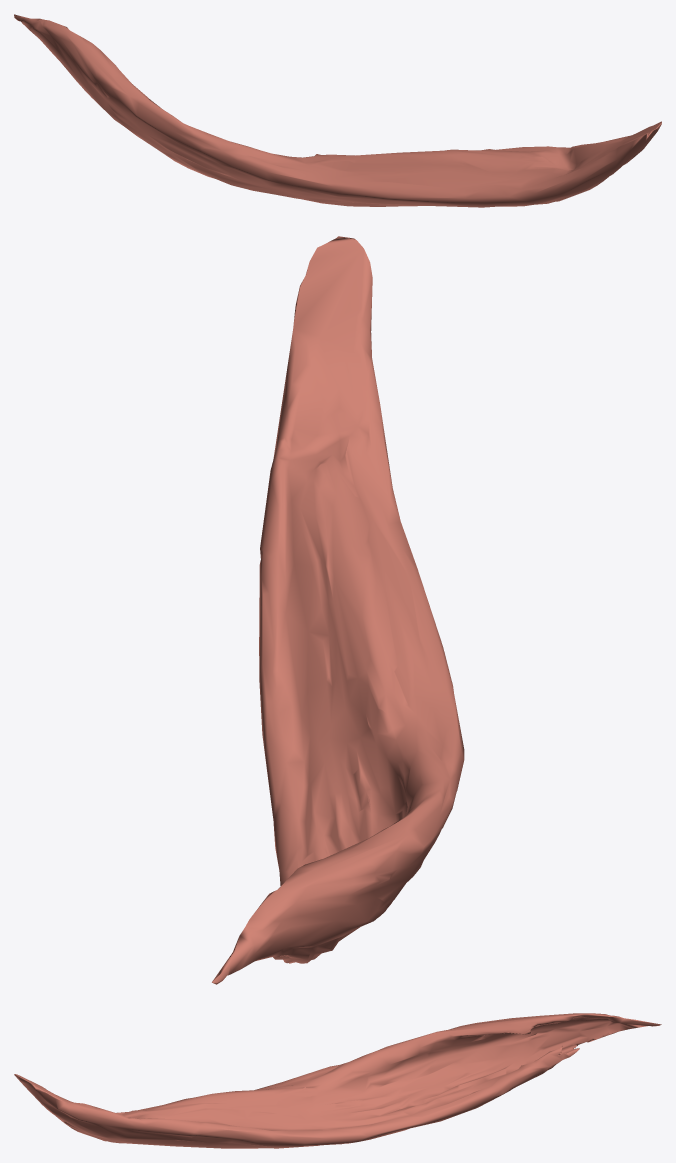
3 views of the same model, one above another, from view 1: azimuth 30°, elevation 25°; view 2: azimuth 150°, elevation 25°; view 3: azimuth 270°, elevation 25° (orthographic). The views are drawn at different scales.
Visible parts, largest first — view 1: 右侧旋前圆肌肱头; view 2: 右侧旋前圆肌肱头; view 3: 右侧旋前圆肌肱头.
Part boxes in pixels (x1,y1,x2,y2): 右侧旋前圆肌肱头: [14, 14, 661, 207]; 右侧旋前圆肌肱头: [212, 236, 464, 984]; 右侧旋前圆肌肱头: [14, 1013, 661, 1148].
Size of the model in its own units: 0.1063 by 0.0532 by 0.2219.
